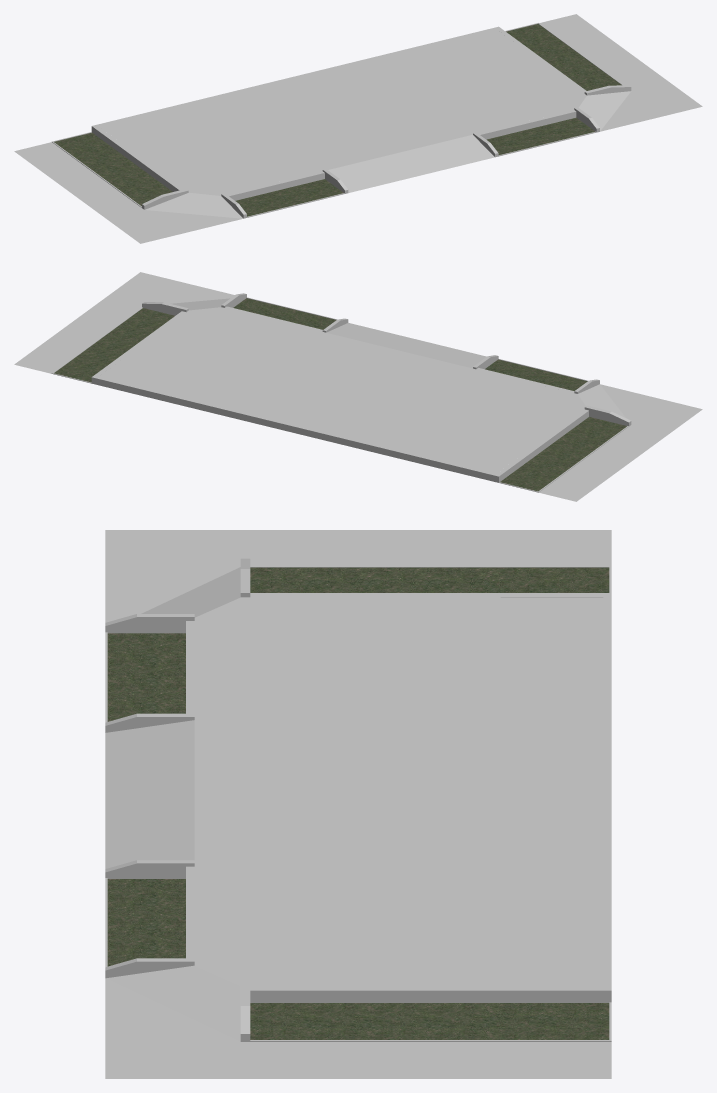
3 views of the same model, one above another, from view 1: azimuth 30°, elevation 25°; view 2: azimuth 150°, elevation 25°; view 3: azimuth 270°, elevation 25° (orthographic). The views are drawn at different scales.
Visible parts, largest first — view 1: Base-19; view 2: Base-19; view 3: Base-19.
Part boxes in pixels (box(x1,y1,x2,y2)): Base-19: box(14, 14, 702, 243); Base-19: box(14, 272, 702, 501); Base-19: box(105, 530, 611, 1078).
Size of what is drawn, in the model's own units: 9240 by 134 by 3600.
